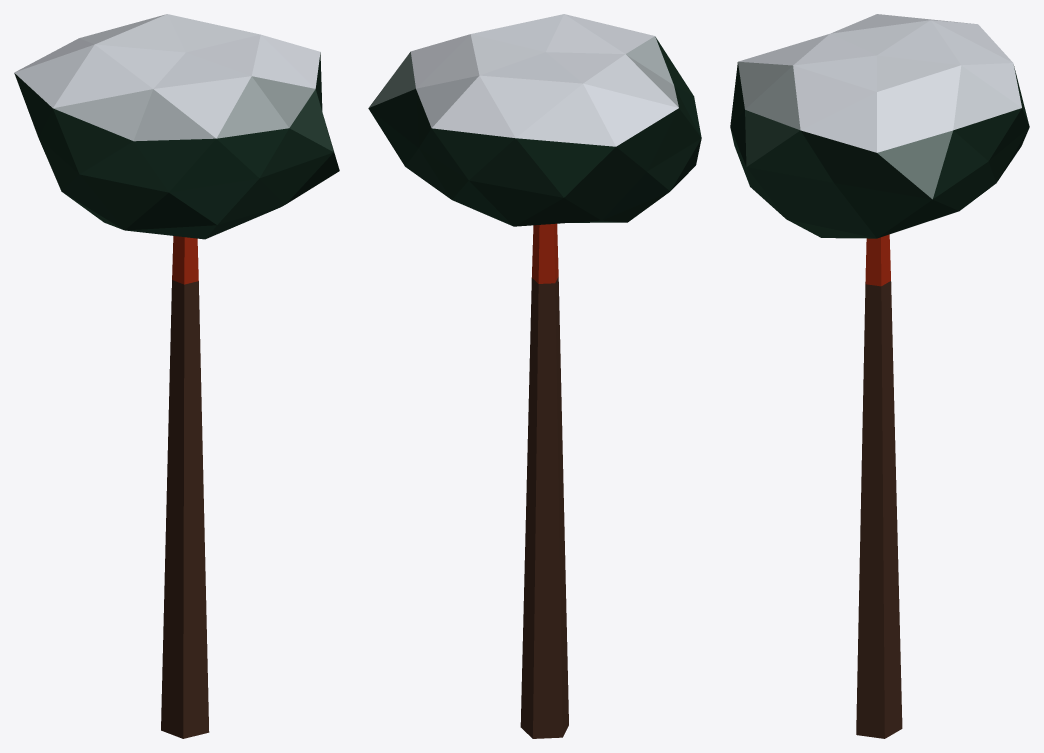
File: tree_pine_far.glb
The picture shows the model from 3 angles, left to right: view 1: azimuth 30°, elevation 25°; view 2: azimuth 150°, elevation 25°; view 3: azimuth 270°, elevation 25°; orthographic projection.
Visible parts, largest first — view 1: tree_pine_far; view 2: tree_pine_far; view 3: tree_pine_far.
Boxes of the visible parts, x1,y1,x2,y2 form: tree_pine_far: [14, 14, 339, 738]; tree_pine_far: [368, 14, 701, 738]; tree_pine_far: [730, 14, 1029, 738].
Size of the model in its own units: 4.6 by 10.58 by 4.24.
